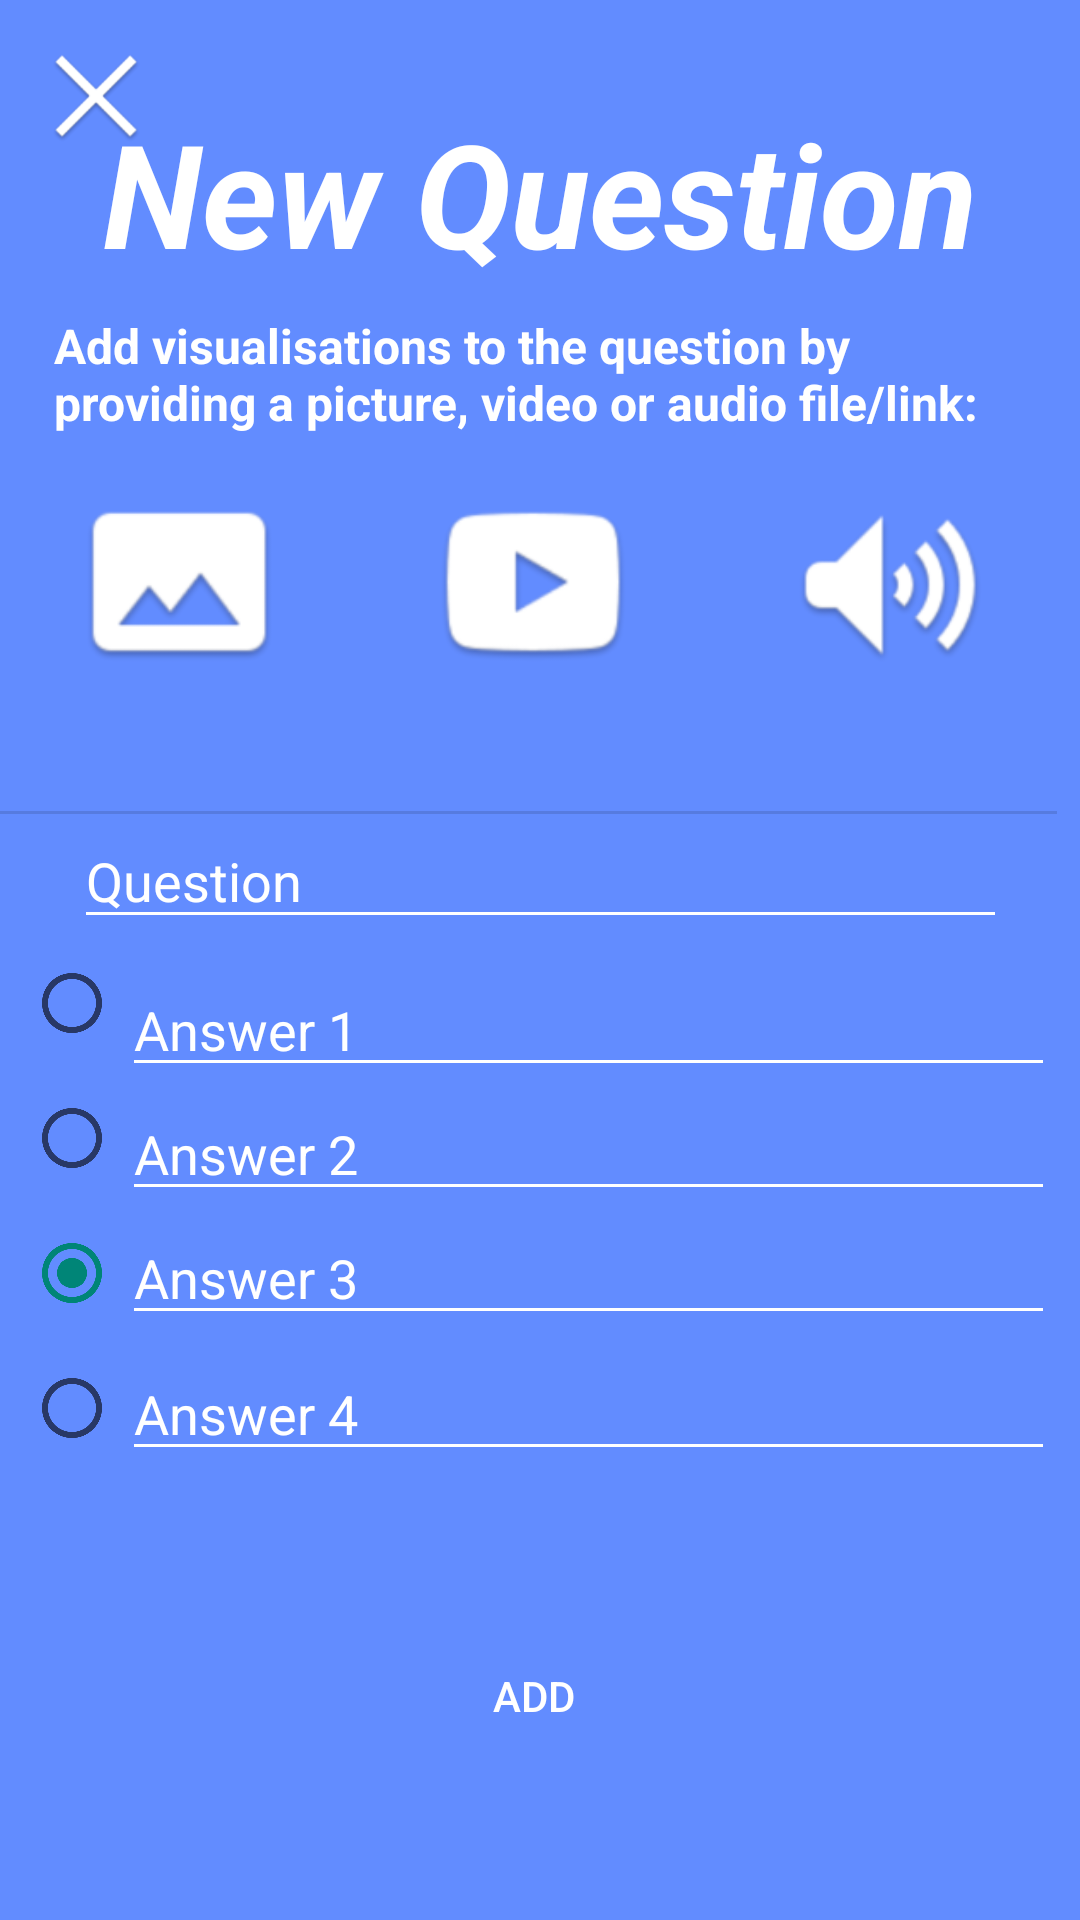

Screen size 1080w x 1920h. Icon name, then its box in pixels as (x1, y1, x2, y2):
exit: (55, 55, 137, 138)
